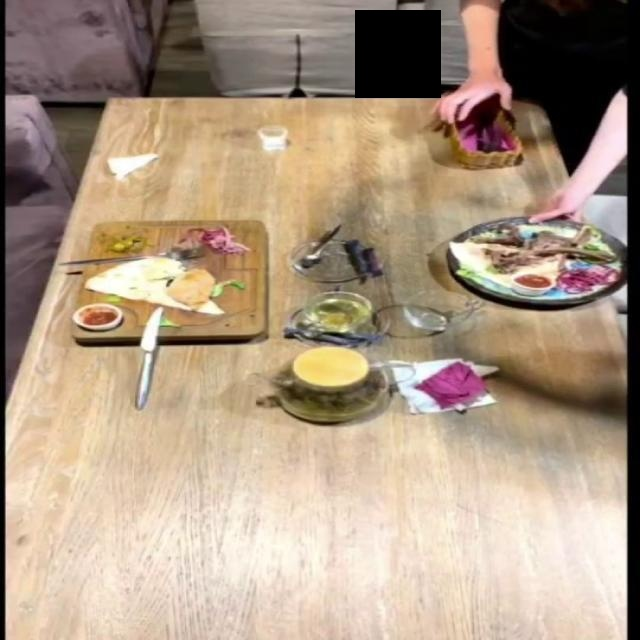meat: (422, 209, 637, 328), (71, 216, 274, 341)
tea: (246, 354, 413, 432)
